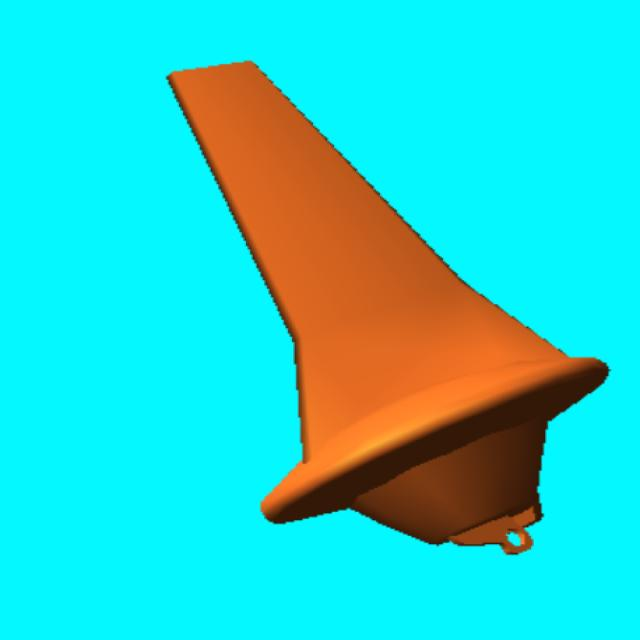OrangeBuoy: (170, 62, 607, 550)
